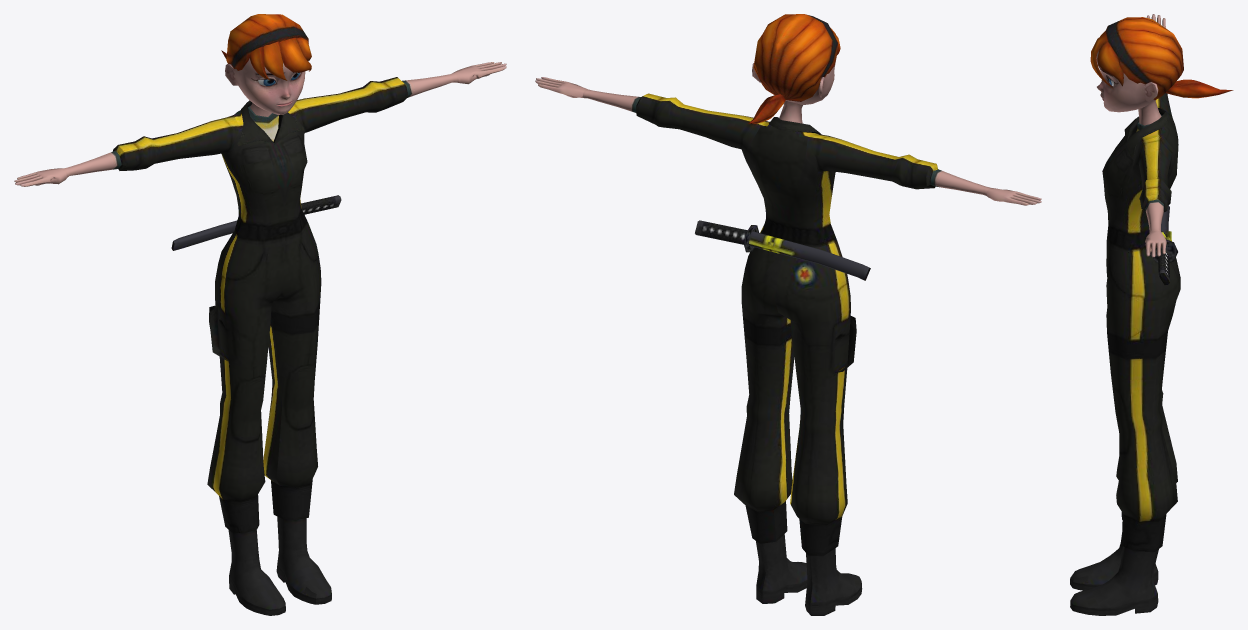
File: April Oneil.fbx
3 views of the same model, side by side, from view 1: azimuth 30°, elevation 25°; view 2: azimuth 150°, elevation 25°; view 3: azimuth 270°, elevation 25° (orthographic). The views are drawn at different scales.
Parts seen in each view (by area): view 1: April_O'Neil_(Kunoichi); view 2: April_O'Neil_(Kunoichi); view 3: April_O'Neil_(Kunoichi).
Boxes of the visible parts, <box> form: April_O'Neil_(Kunoichi): <box>14,14,506,615</box>; April_O'Neil_(Kunoichi): <box>535,14,1041,615</box>; April_O'Neil_(Kunoichi): <box>1070,14,1233,615</box>.
Bounding box in the file's own units: 12748 × 14057 × 3639.
2 materials, 2 textured.
